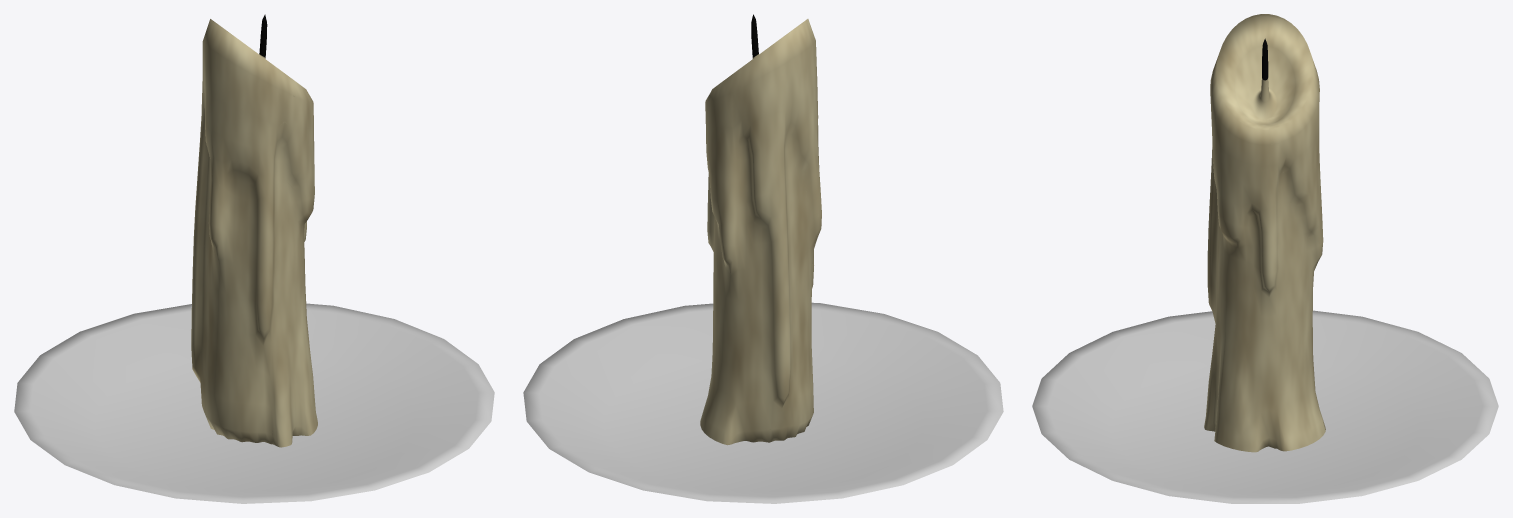
Rendered from lilin piring.fbx.
The picture shows the model from 3 angles, left to right: view 1: azimuth 30°, elevation 25°; view 2: azimuth 150°, elevation 25°; view 3: azimuth 270°, elevation 25°; orthographic projection. The views are drawn at different scales.
Parts seen in each view (by area): view 1: Cylinder, Cylinder.006; view 2: Cylinder, Cylinder.006; view 3: Cylinder, Cylinder.006.
Part boxes in pixels (bbox=[...]): Cylinder: bbox=[14, 303, 494, 503]; Cylinder.006: bbox=[191, 14, 317, 447]; Cylinder: bbox=[523, 302, 1003, 503]; Cylinder.006: bbox=[700, 14, 821, 445]; Cylinder: bbox=[1032, 310, 1498, 503]; Cylinder.006: bbox=[1204, 14, 1325, 452].
Bounding box in the file's own units: 198 × 197 × 200.
